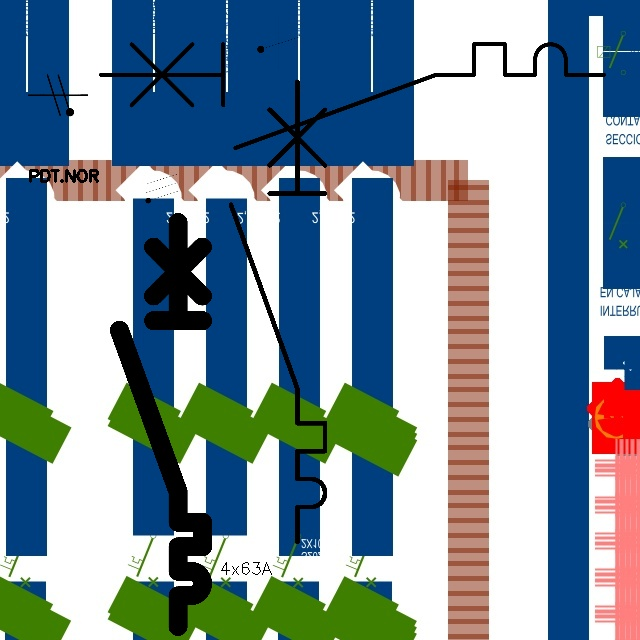interruptor_termomagnetico: (87, 31, 616, 160), (219, 69, 337, 554), (109, 212, 213, 637)
